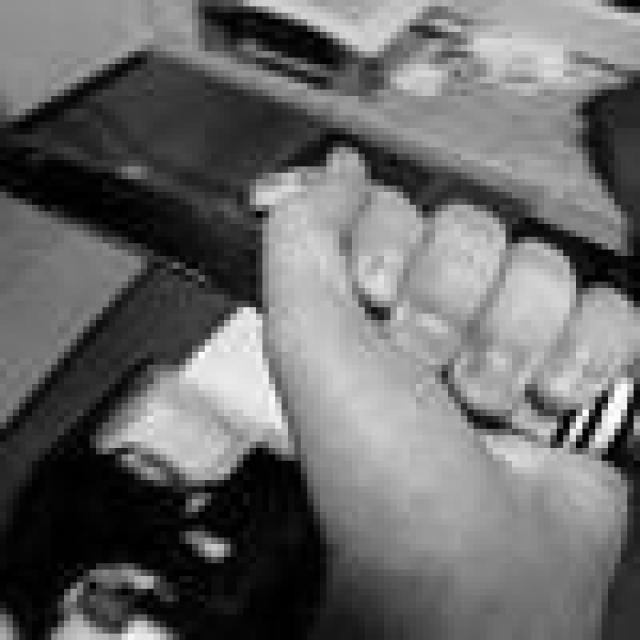knife: (0, 143, 634, 463)
